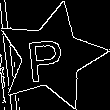P_N: (30, 30, 73, 84)
